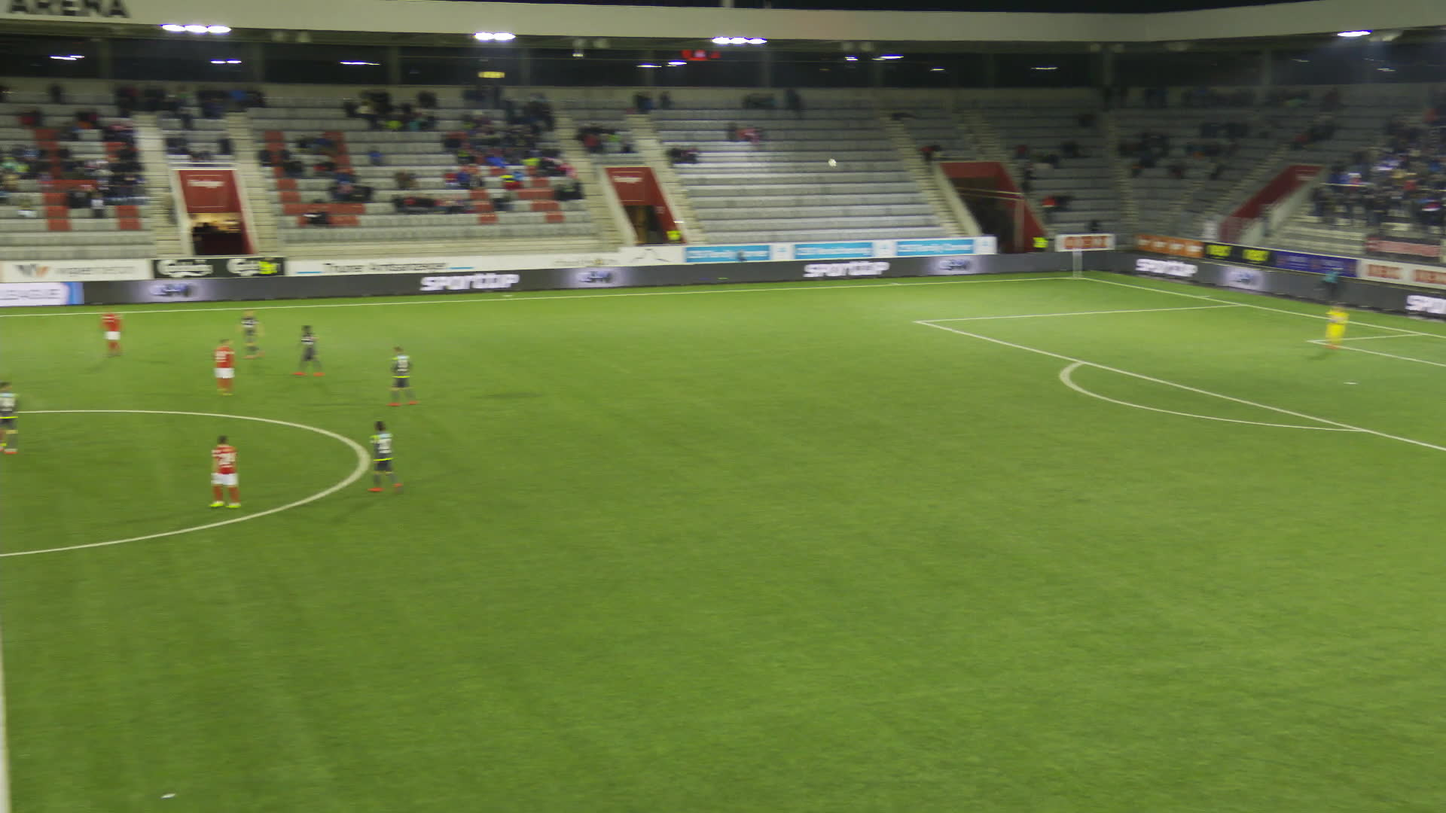ball: (828, 159, 837, 167)
player: (351, 420, 389, 493), (200, 434, 235, 510), (386, 346, 419, 406), (292, 323, 325, 378), (196, 336, 220, 398), (221, 307, 249, 358), (0, 379, 18, 456), (1319, 303, 1347, 349), (84, 309, 106, 353)
